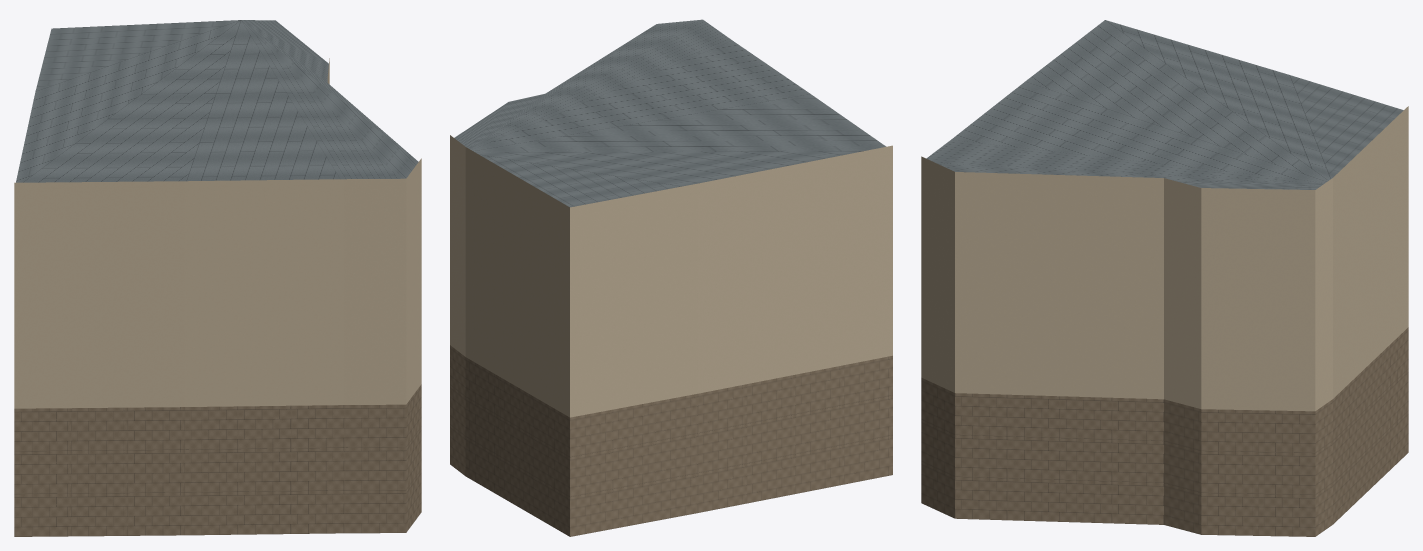
The model's file is bld_c41_-49_464.gltf.
3 renders of one model, left to right at view 1: azimuth 30°, elevation 25°; view 2: azimuth 150°, elevation 25°; view 3: azimuth 270°, elevation 25°, orthographic. The views are drawn at different scales.
Parts seen in each view (by area): view 1: bld_c41_-49_464; view 2: bld_c41_-49_464; view 3: bld_c41_-49_464.
Boxes of the visible parts, x1,y1,x2,y2 form: bld_c41_-49_464: (14,20,421,536); bld_c41_-49_464: (450,19,892,536); bld_c41_-49_464: (921,20,1408,536).
Size of the model in its own units: 15.33 by 14.08 by 17.93.
Materials: 4 (4 with a texture image).
